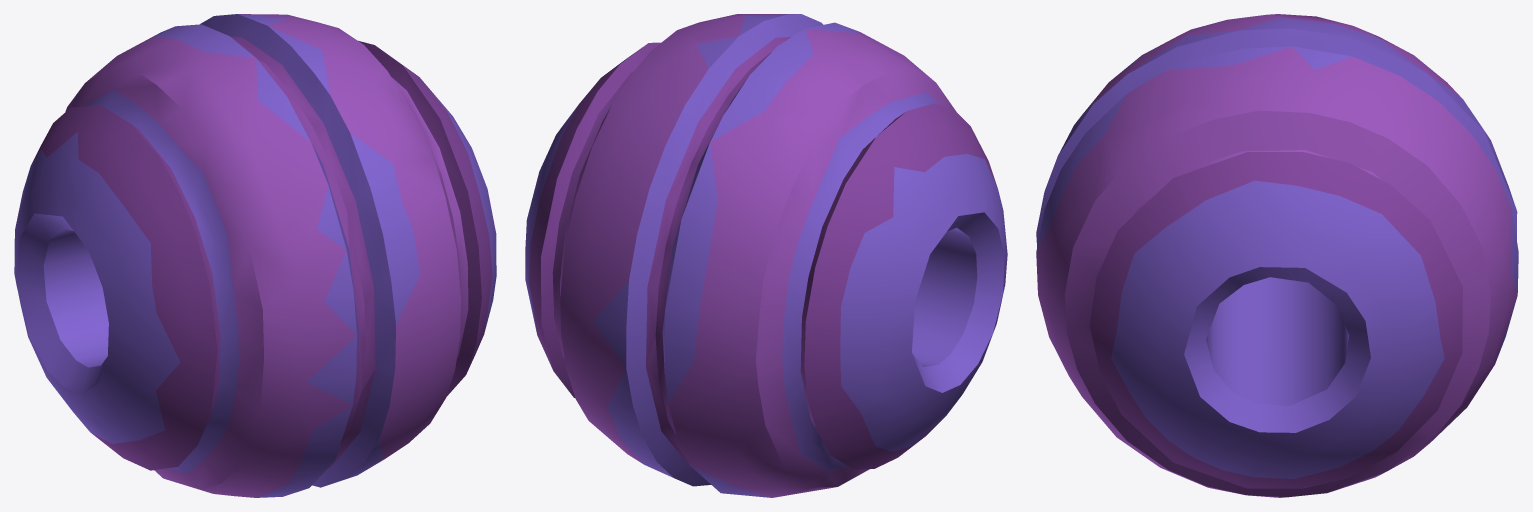
File: purple.glb
3 views of the same model, side by side, from view 1: azimuth 30°, elevation 25°; view 2: azimuth 150°, elevation 25°; view 3: azimuth 270°, elevation 25° (orthographic).
Parts seen in each view (by area): view 1: Purple; view 2: Purple; view 3: Purple.
Boxes of the visible parts, box(x1,y1,x2,y2) form: Purple: box(14, 14, 496, 497); Purple: box(525, 14, 1007, 497); Purple: box(1036, 14, 1518, 497).
Size of the model in its own units: 3.45 by 3.75 by 3.75.
Materials: 1 (1 with a texture image).
